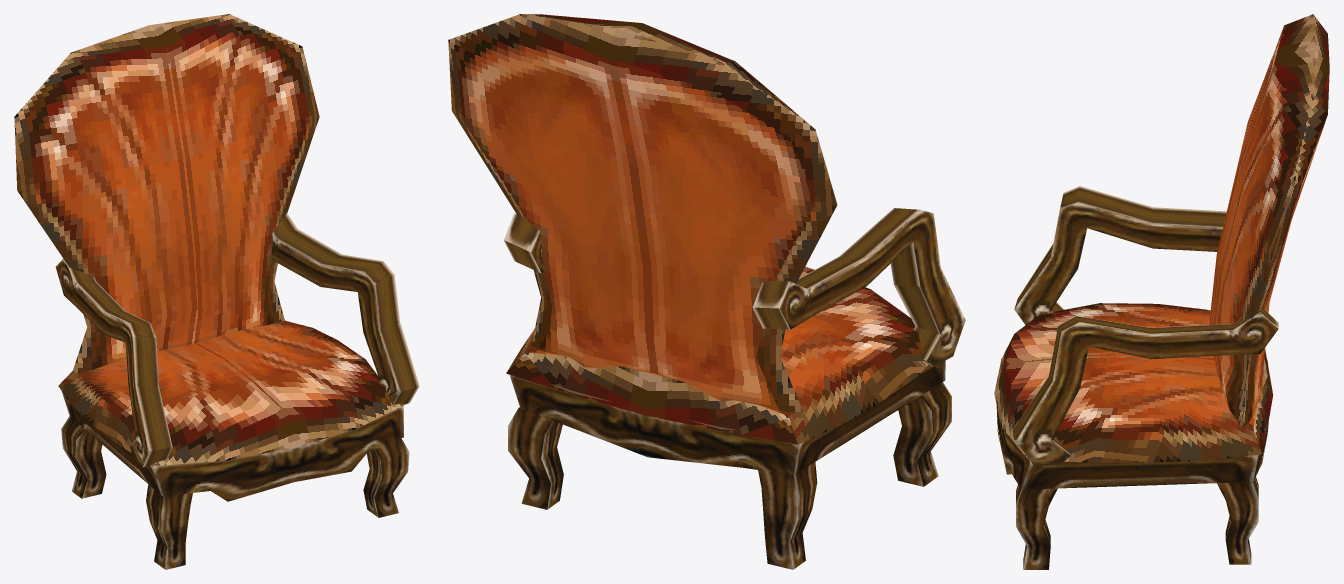
File: isu34_1.glb
3 renders of one model, left to right at view 1: azimuth 30°, elevation 25°; view 2: azimuth 150°, elevation 25°; view 3: azimuth 270°, elevation 25°, orthographic. The views are drawn at different scales.
Parts seen in each view (by area): view 1: isu34_1; view 2: isu34_1; view 3: isu34_1.
Part boxes in pixels (left/top/right/bottom): isu34_1: left=14, top=14, right=419, bottom=569; isu34_1: left=448, top=14, right=965, bottom=569; isu34_1: left=994, top=14, right=1329, bottom=569.
Size of the model in its own units: 210 by 278 by 184.
Materials: 5 (5 with a texture image).
